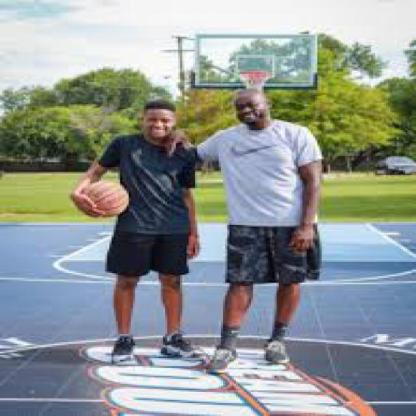basketball: (82, 181, 131, 215)
rim: (236, 71, 272, 77)
